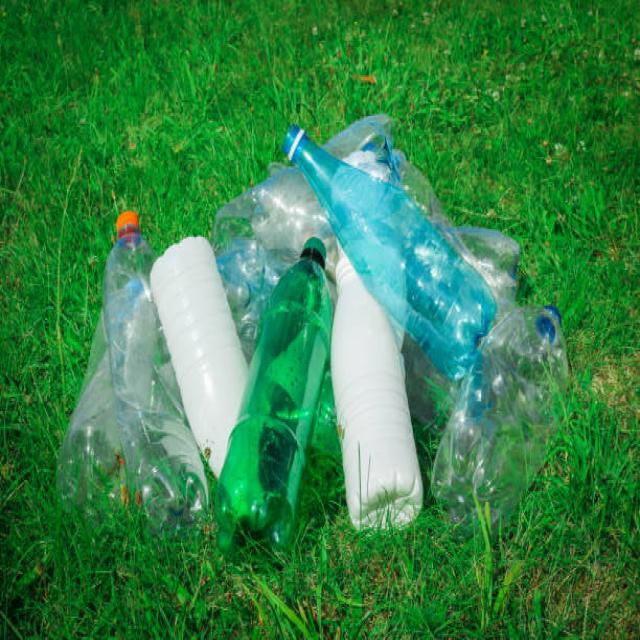plastic: (61, 118, 560, 542)
